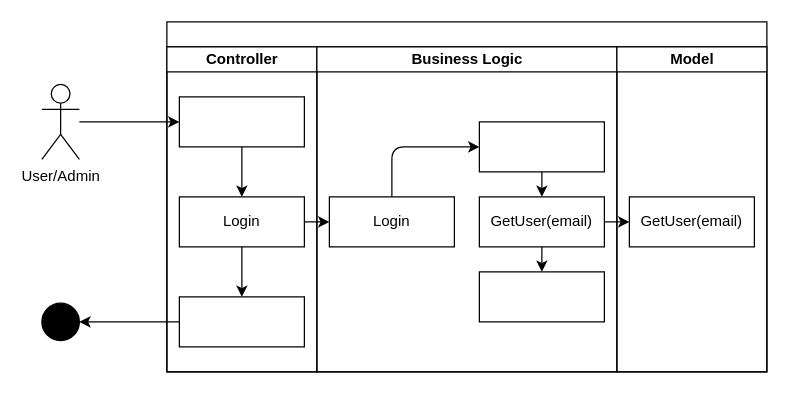
Some shapes in this 789 by 394 pixel diagram are drawn without their labels. The shapes that lost their labels are listed below. From the top down, each one's centre as x and y in pixels, then its label:
At (x=241, y=121): "Initialize".
At (x=541, y=146): "ValidateInput".
At (x=541, y=296): "ValidateLogin".
At (x=241, y=321): "ShowItems".
